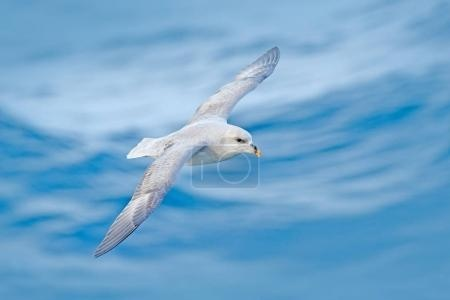bird: (94, 44, 282, 255)
